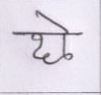o_matra: (57, 20, 71, 59)
